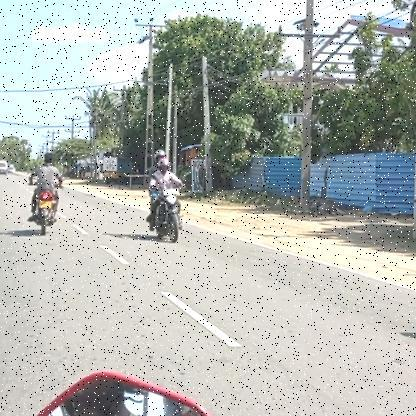motorcycle: (144, 186, 187, 244), (25, 187, 63, 238)
